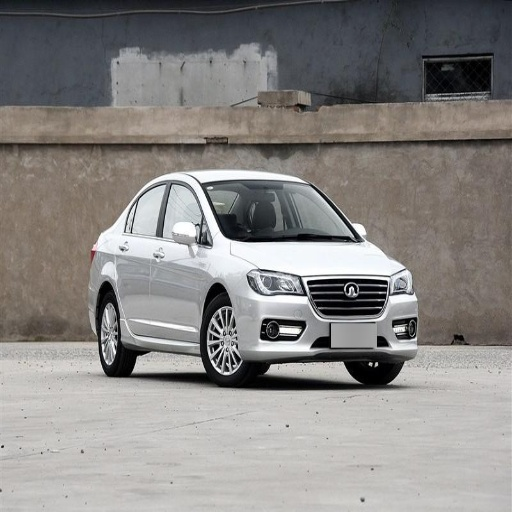front_bumper: (235, 274, 418, 359)
front_right_door: (151, 178, 205, 340)
front_right_light: (246, 267, 303, 295)
